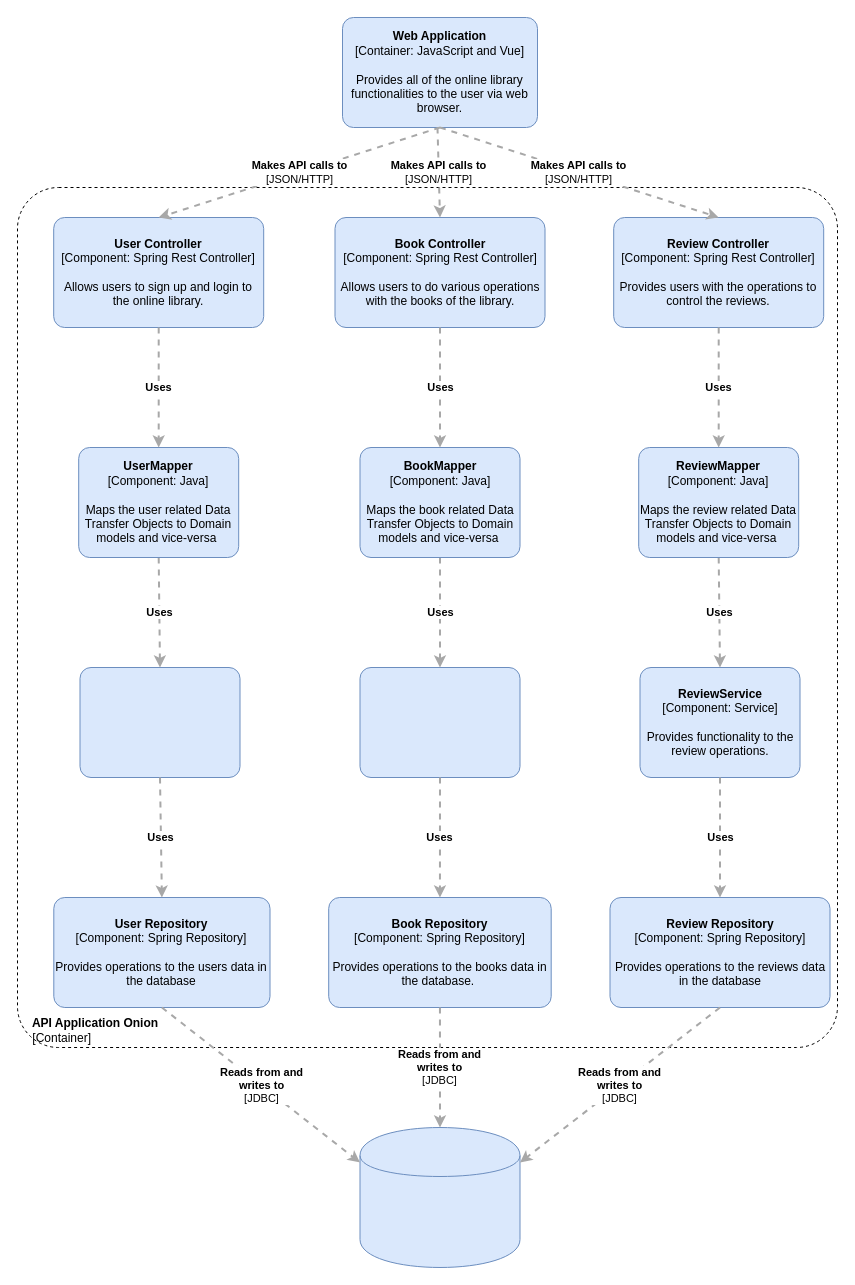
This 855x1285 diagram has some shape labels left out. The box of each missing label's shape, as (x1, y1, x2, y2) in pixels:
BookService [Component: Service ] Provides functionality to the book operations.: (359, 666, 520, 778)
Database [Container: MySQL] Stores user and books related data.: (359, 1126, 520, 1268)
UserService [Component: Service ] Provides functionality to the user operations.: (79, 666, 240, 778)
